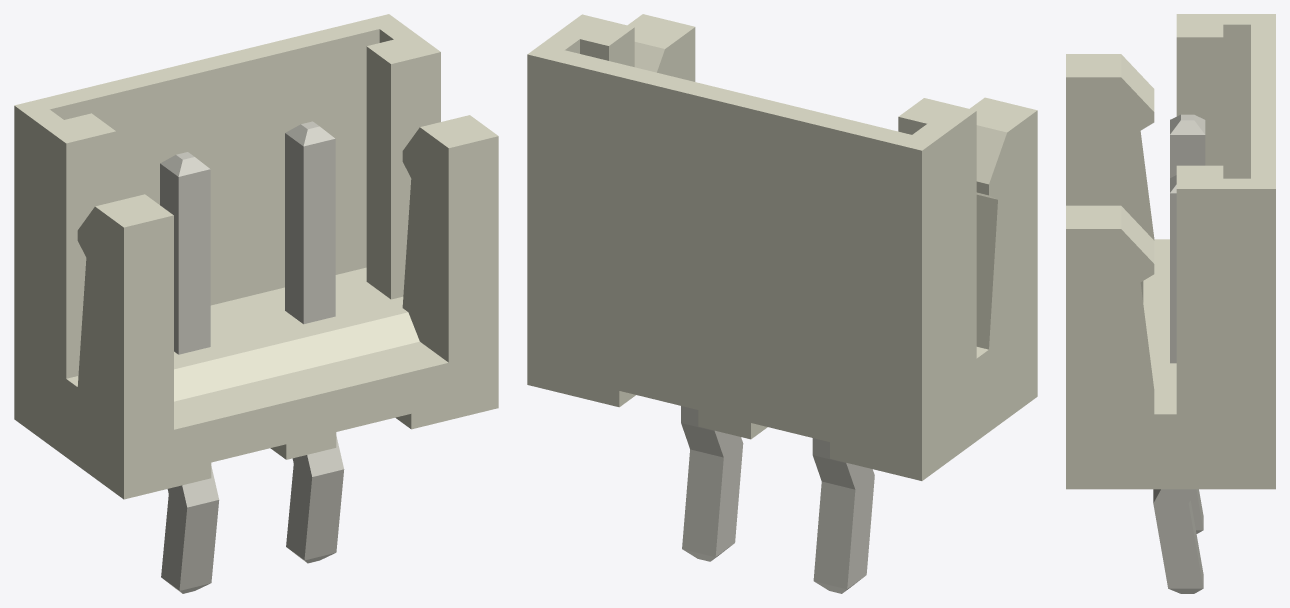
The model's file is kc-jst_eh_b2b-eh-a_1x02_p2.50mm_vertical.glb.
3 views of the same model, side by side, from view 1: azimuth 30°, elevation 25°; view 2: azimuth 150°, elevation 25°; view 3: azimuth 270°, elevation 25° (orthographic). The views are drawn at different scales.
Visible parts, largest first — view 1: 0.75_0.75_0.5833333333333334_0, 0.6666666666666666_0.6666666666666666_0.5833333333333334_0.8; view 2: 0.75_0.75_0.5833333333333334_0, 0.6666666666666666_0.6666666666666666_0.5833333333333334_0.8; view 3: 0.75_0.75_0.5833333333333334_0, 0.6666666666666666_0.6666666666666666_0.5833333333333334_0.8.
Part boxes in pixels (<box>): 0.75_0.75_0.5833333333333334_0: <box>14,14,498,499</box>; 0.6666666666666666_0.6666666666666666_0.5833333333333334_0.8: <box>160,121,344,593</box>; 0.75_0.75_0.5833333333333334_0: <box>527,14,1037,480</box>; 0.6666666666666666_0.6666666666666666_0.5833333333333334_0.8: <box>681,406,874,593</box>; 0.75_0.75_0.5833333333333334_0: <box>1066,14,1275,489</box>; 0.6666666666666666_0.6666666666666666_0.5833333333333334_0.8: <box>1153,114,1205,593</box>.
Size of the model in its own units: 0.75 by 0.92 by 0.38.
